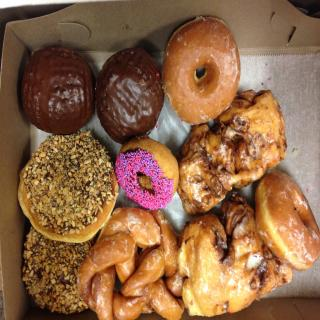Doughnut: (18, 128, 120, 244), (161, 15, 240, 126), (94, 46, 165, 144), (255, 170, 320, 272), (22, 225, 94, 315), (22, 45, 93, 135), (113, 134, 179, 211)
